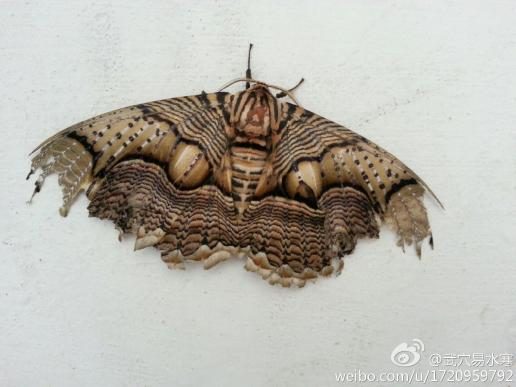feie: (22, 75, 446, 286)
